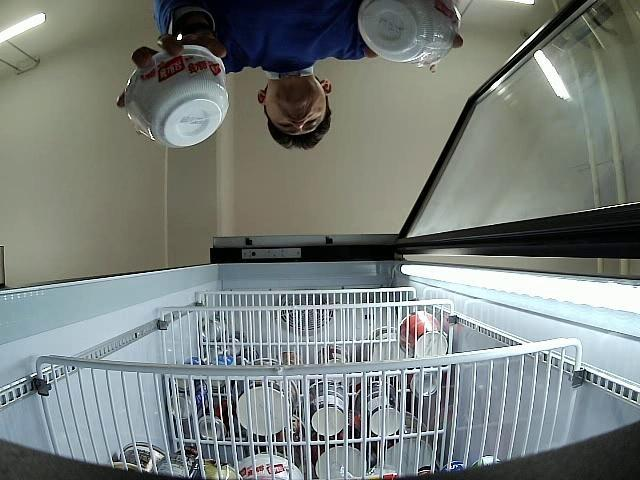09_yukGaeJang: (125, 46, 228, 148), (358, 0, 462, 65)
